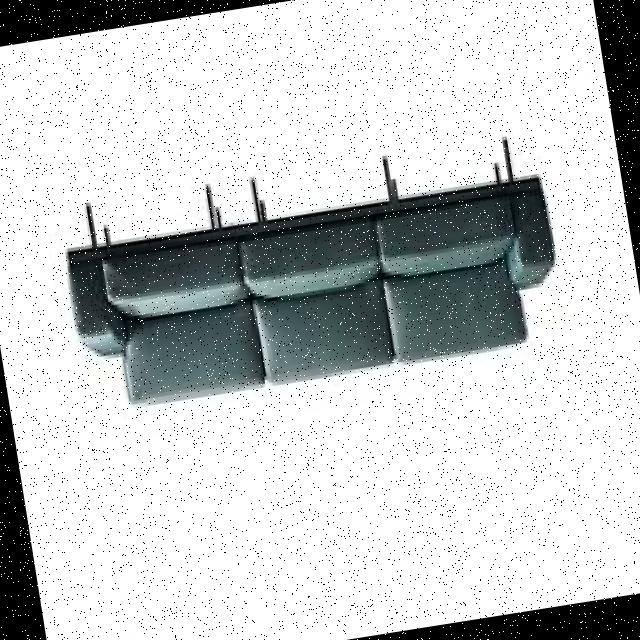Sofa: (27, 93, 592, 450)
